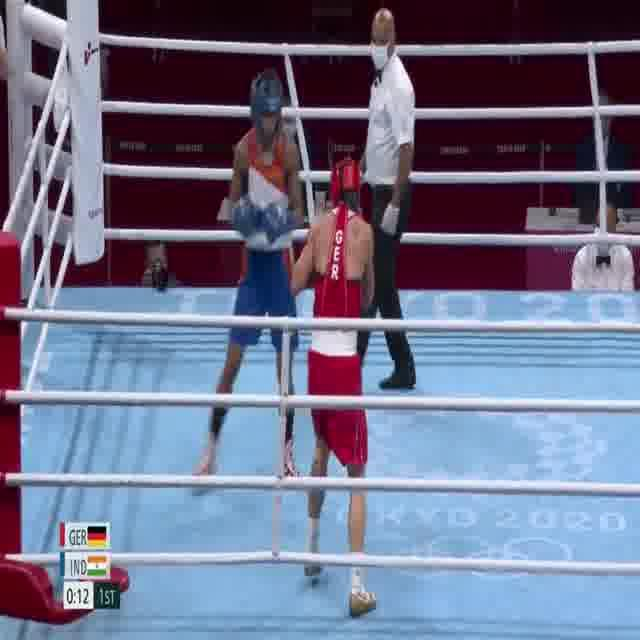blue-player: (185, 67, 308, 496)
red-player: (286, 149, 381, 619)
referee: (333, 6, 419, 397)
